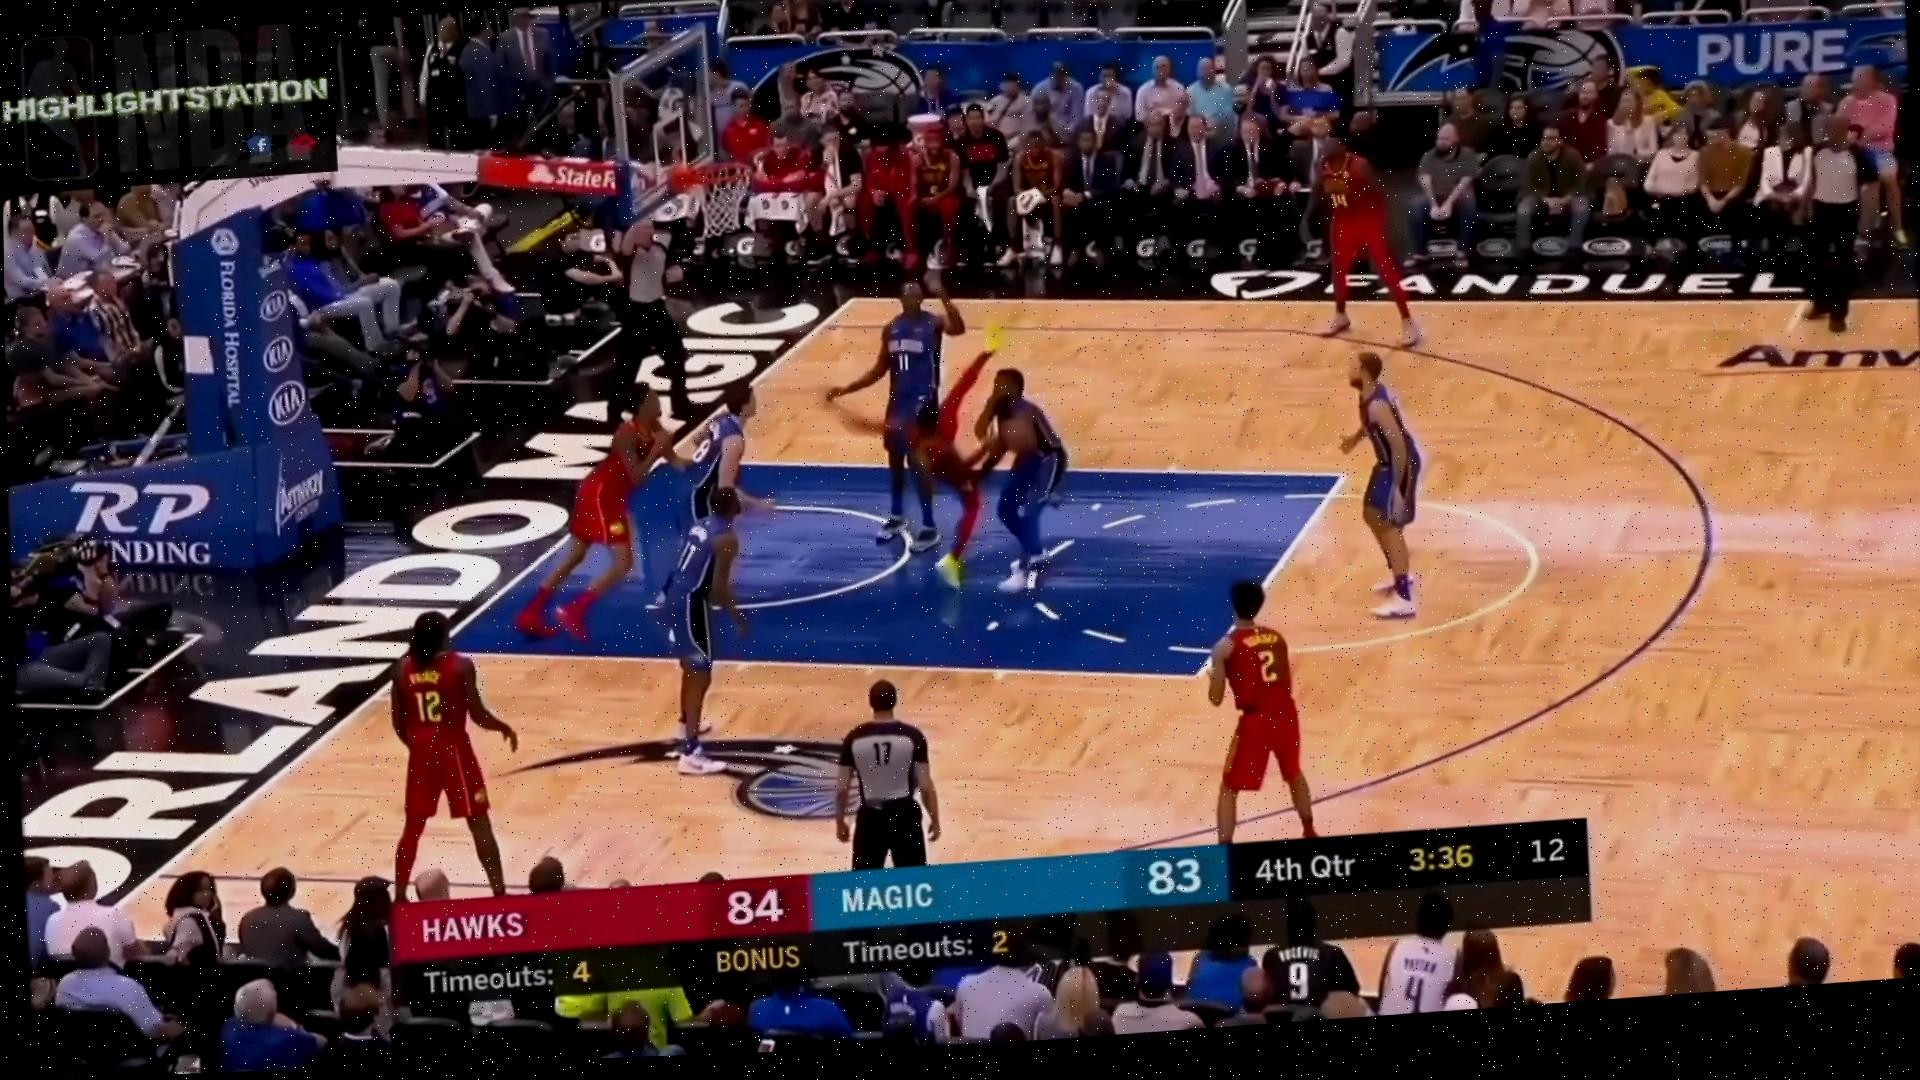foul: (884, 339, 1091, 622)
